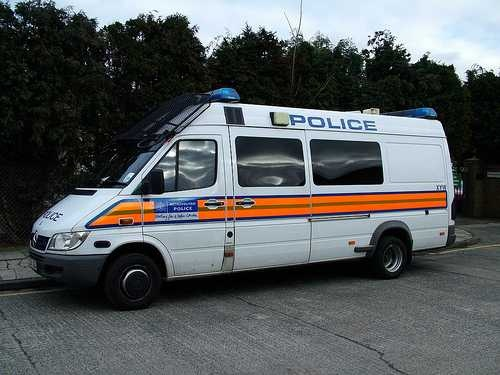Police Van: (32, 84, 462, 295)
